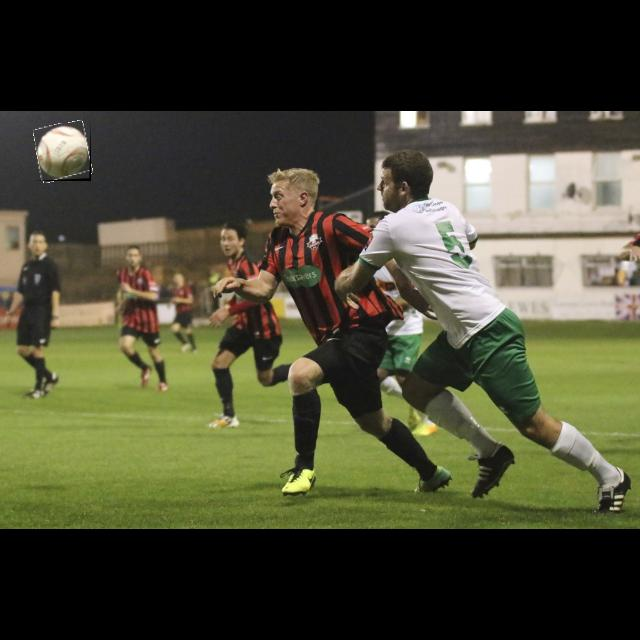Football: (35, 123, 91, 181)
